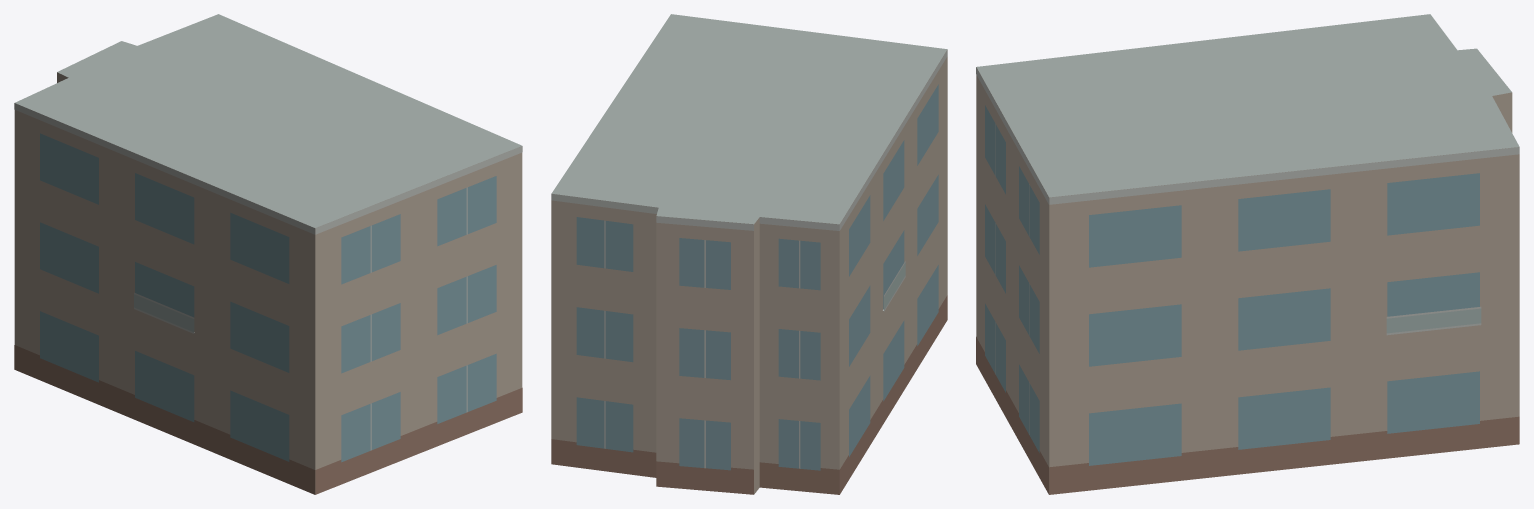
The model's file is survey-upis-32617255.glb.
3 renders of one model, left to right at view 1: azimuth 30°, elevation 25°; view 2: azimuth 150°, elevation 25°; view 3: azimuth 270°, elevation 25°, orthographic. The views are drawn at different scales.
Parts seen in each view (by area): view 1: survey-upis-32617255.tmp; view 2: survey-upis-32617255.tmp; view 3: survey-upis-32617255.tmp.
Part boxes in pixels (x1,y1,x2,y2): survey-upis-32617255.tmp: [14, 14, 522, 494]; survey-upis-32617255.tmp: [551, 14, 947, 494]; survey-upis-32617255.tmp: [976, 14, 1519, 494].
Size of the model in its own units: 12.97 by 9.8 by 16.24.
